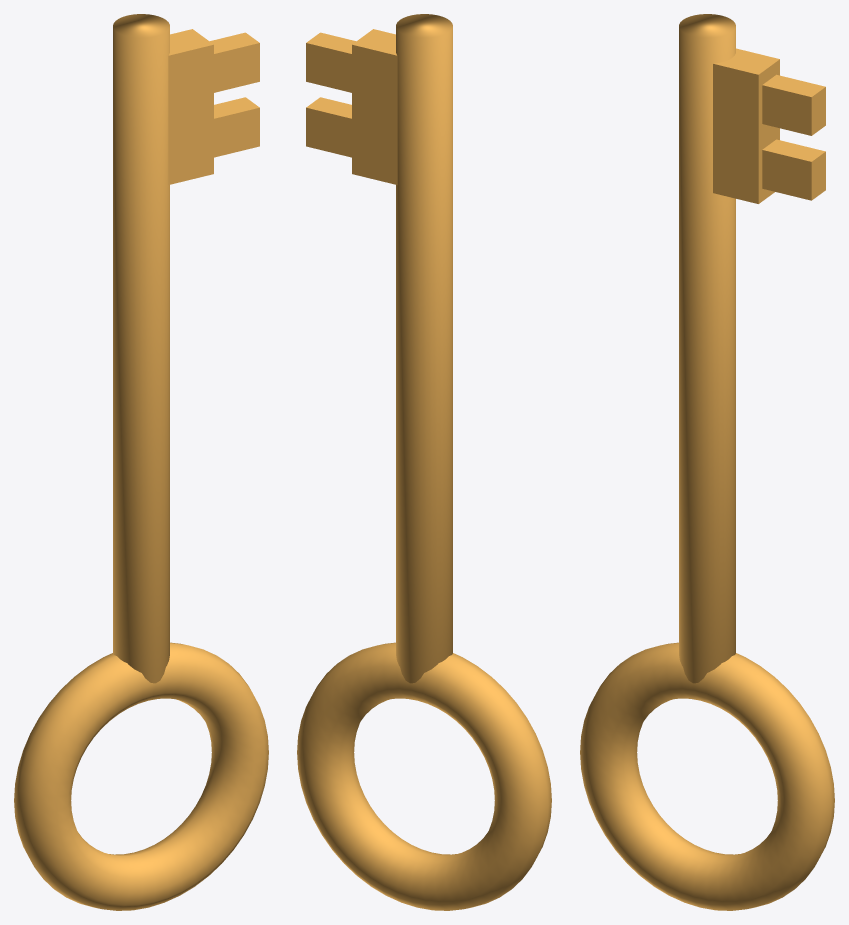
Rendered from key.glb.
3 renders of one model, left to right at view 1: azimuth 30°, elevation 25°; view 2: azimuth 150°, elevation 25°; view 3: azimuth 330°, elevation 25°, orthographic.
Parts seen in each view (by area): view 1: Cube.001; view 2: Cube.001; view 3: Cube.001.
Boxes of the visible parts, <box> form: Cube.001: <box>14,14,268,910</box>; Cube.001: <box>297,14,551,910</box>; Cube.001: <box>580,14,834,910</box>.
Size of the model in its own units: 2 by 6.8 by 0.4.
